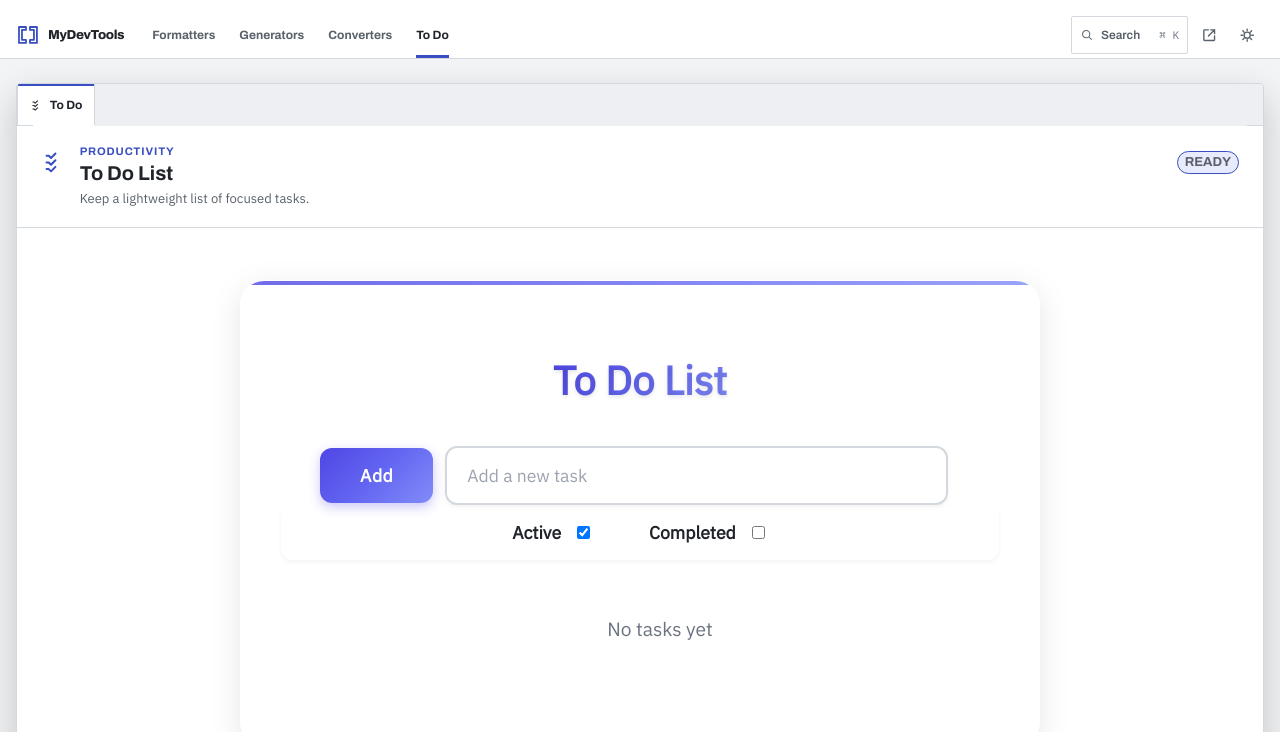
Test: To Do List Component › deletes a task
The width and height of the screenshot is (1280, 732).
Type "Delete Me" into the field with test id "task-input". click: (697, 476)
box: [445,446,948,505]
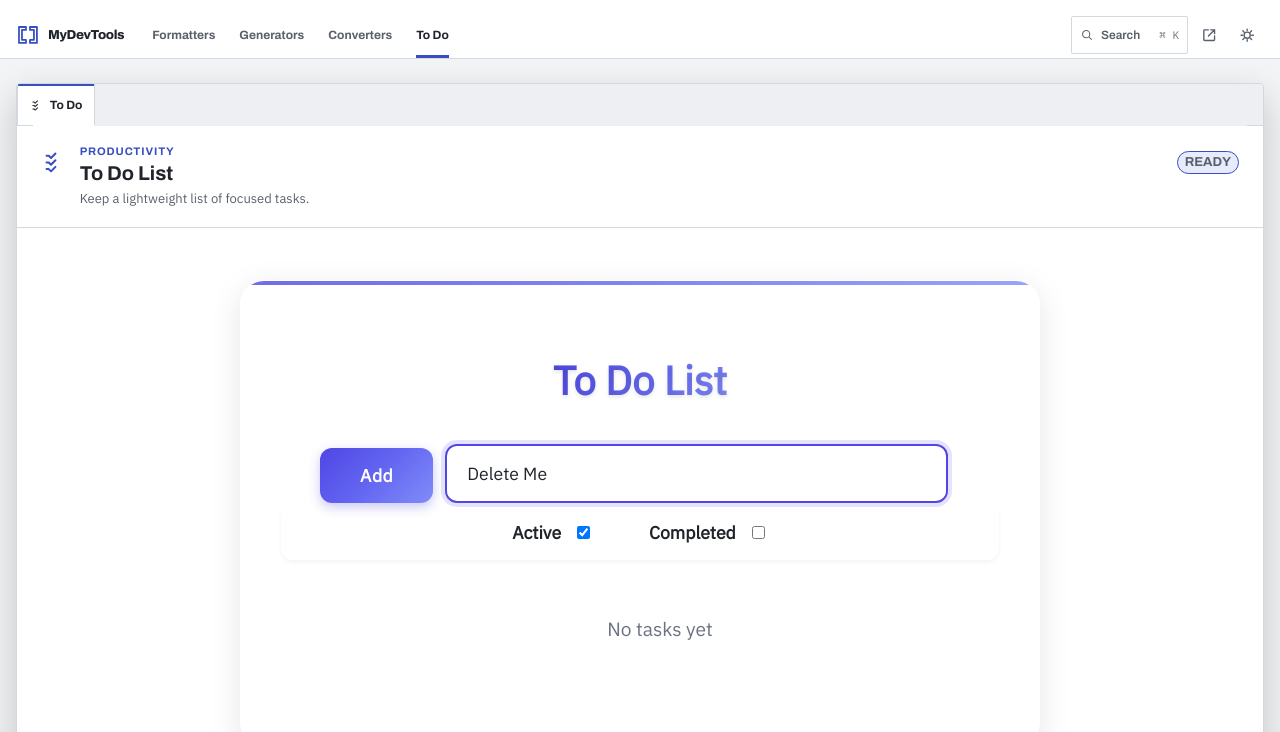
Click the button with test id "add-btn". click: (377, 476)
box: [320,448,433,503]
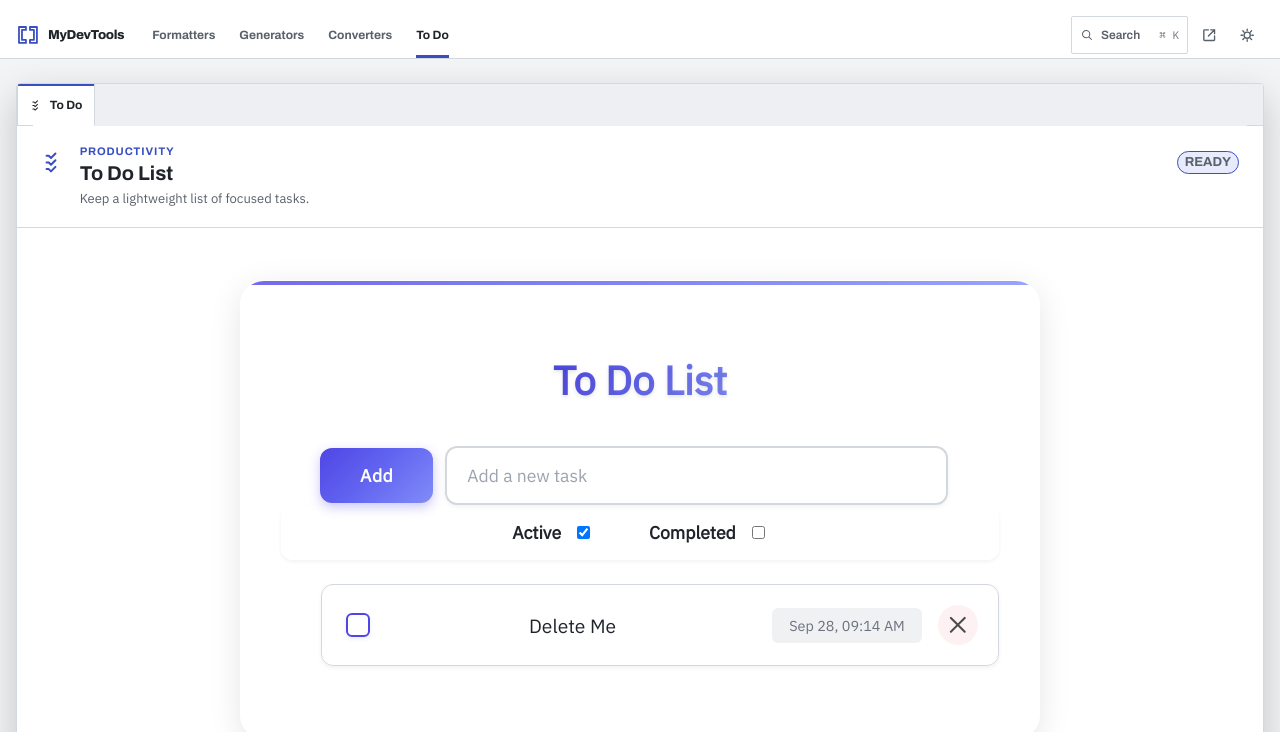
Click the button with test id "remove-task-btn-". click: (958, 625)
box: [938,605,978,645]
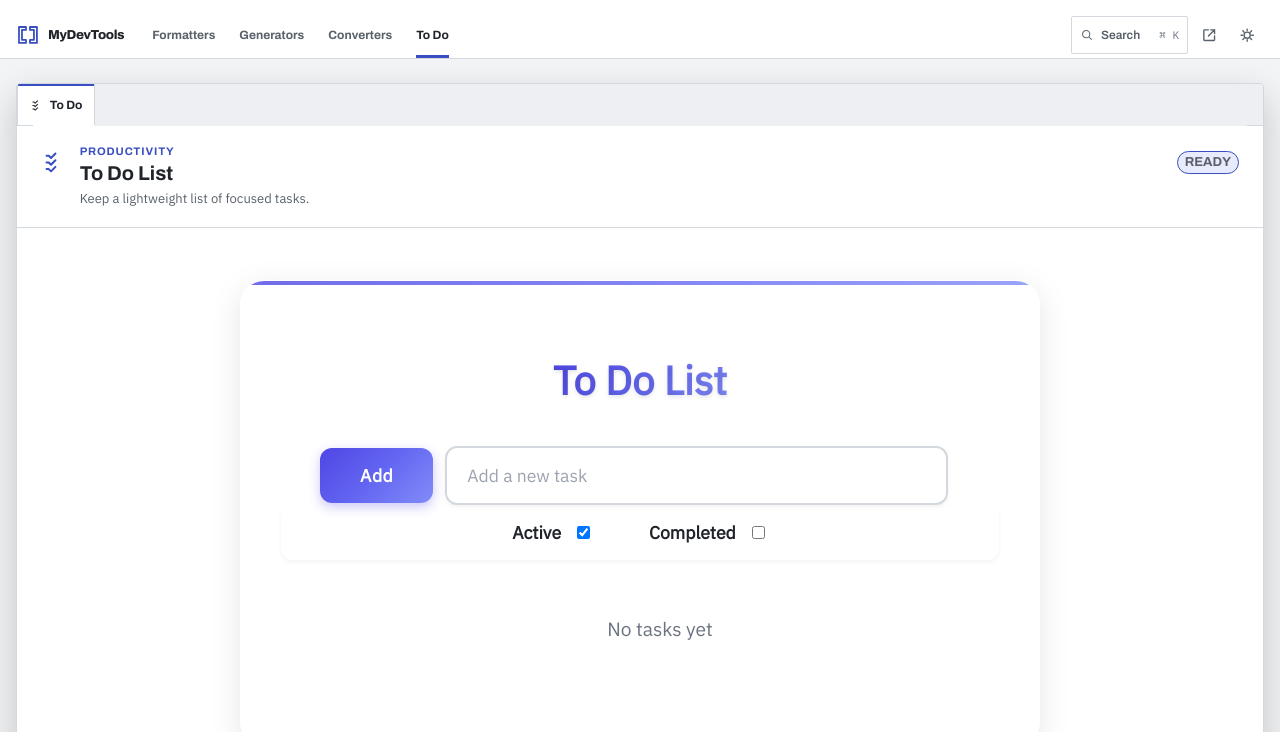
Expected: the text with test id "task-list" no longer shows "Delete Me"
